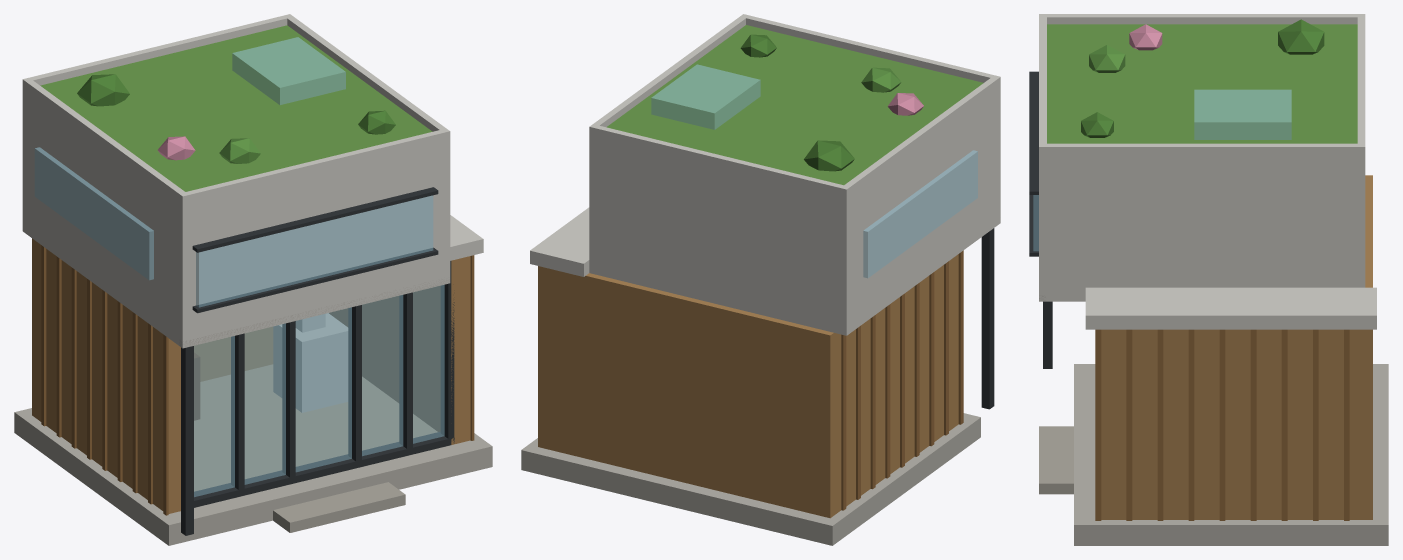
File: c-studio.glb
3 renders of one model, left to right at view 1: azimuth 30°, elevation 25°; view 2: azimuth 150°, elevation 25°; view 3: azimuth 270°, elevation 25°, orthographic. The views are drawn at different scales.
Visible parts, largest first — view 1: c-studio; view 2: c-studio; view 3: c-studio.
Part boxes in pixels (<box>): c-studio: <box>14,14,492,545</box>; c-studio: <box>521,14,1000,545</box>; c-studio: <box>1029,14,1388,545</box>.
Bounding box in the file's own units: 2.01 × 2.18 × 1.85.
